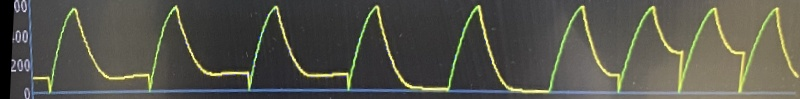leakage: (45, 0, 347, 97), (544, 0, 797, 99)
normal_volume: (356, 0, 546, 97)
